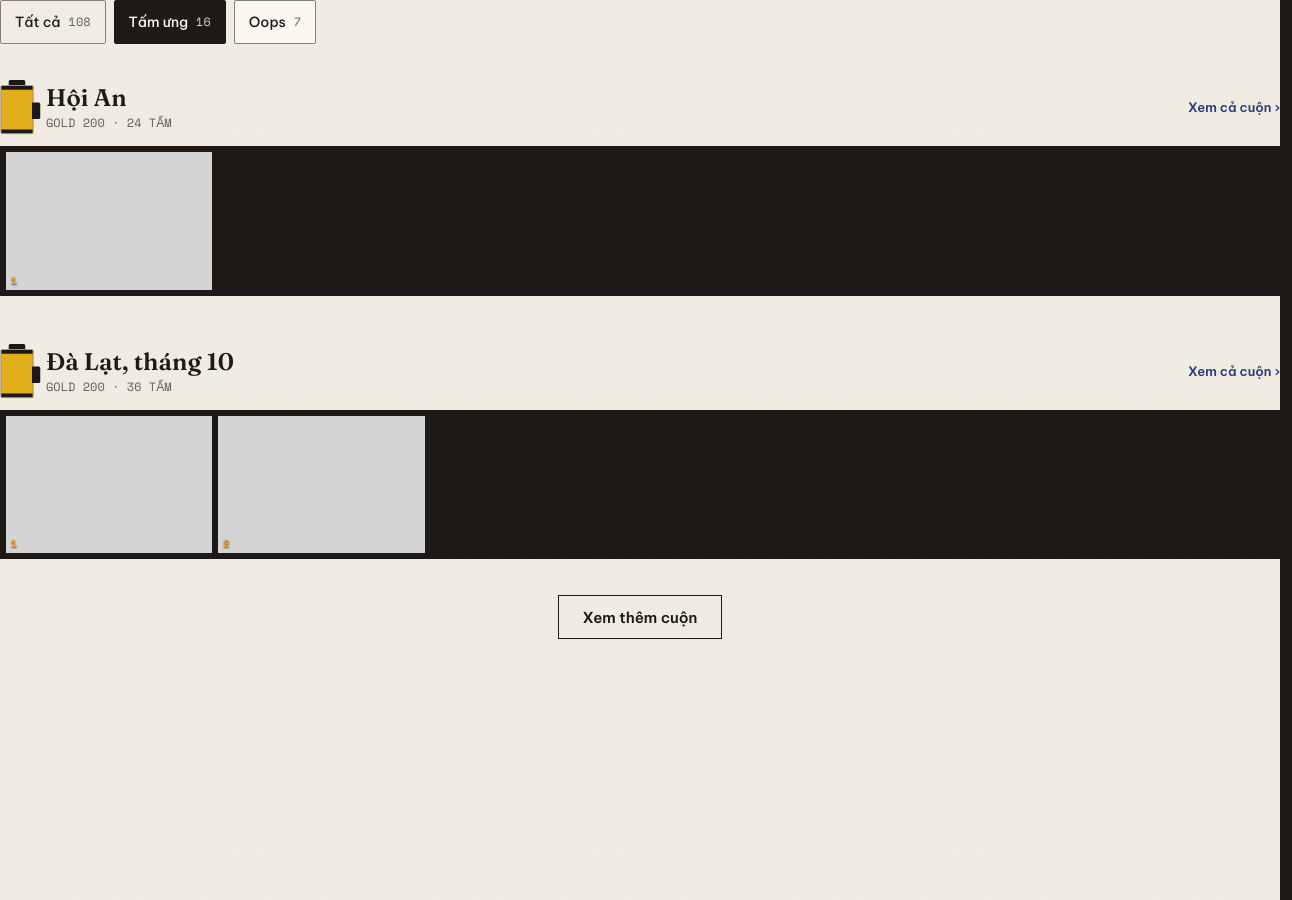
Test case: LibraryGrid (COL-3) › 'Xem thêm cuộn' loads the next page and appends it
Click the button "Xem thêm cuộn".
click(640, 617)  # box [558,595,722,639]
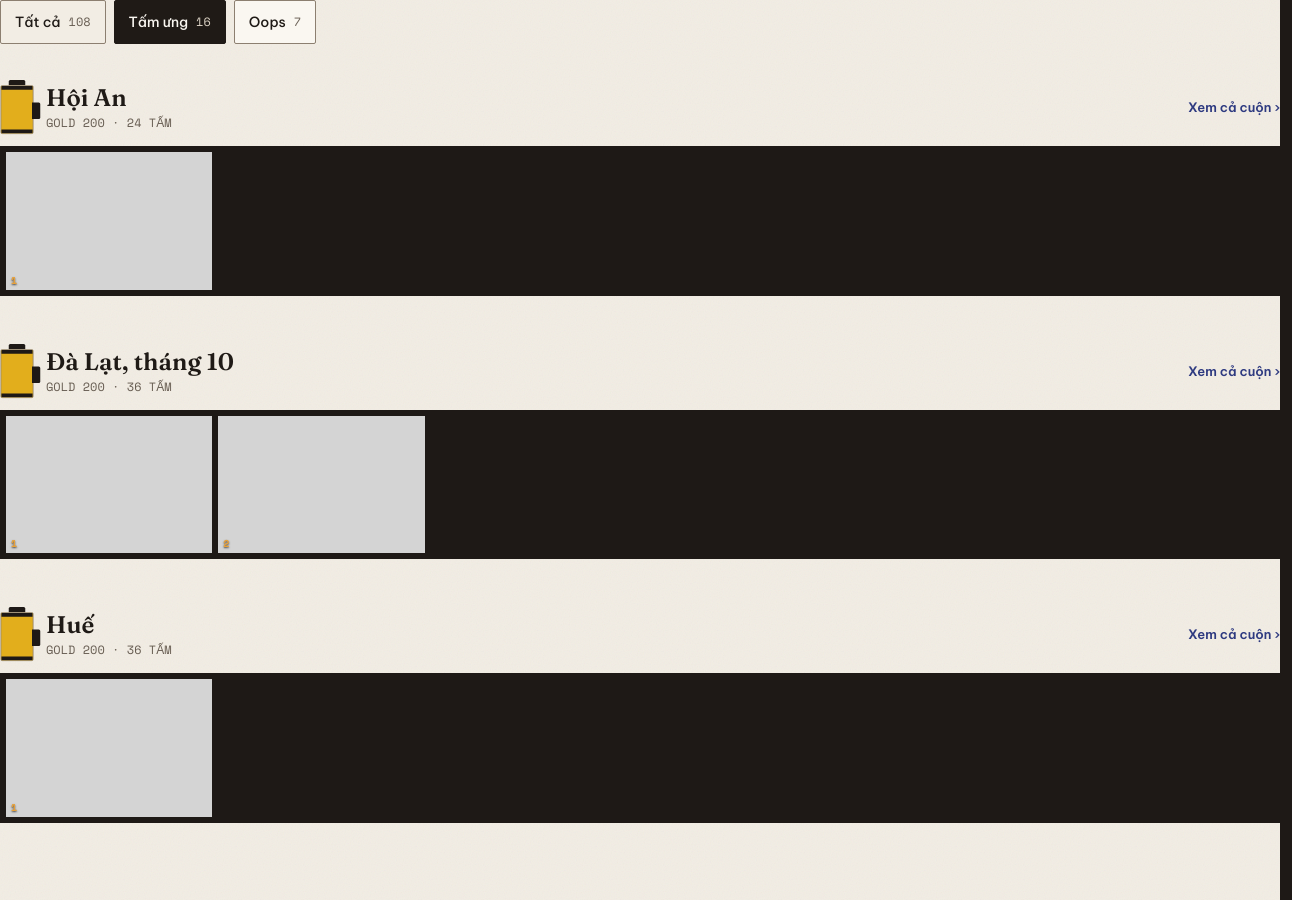
Now the heading "Huế" is shown, box [46,610,94,639]
Now the button "Xem thêm cuộn" is gone
